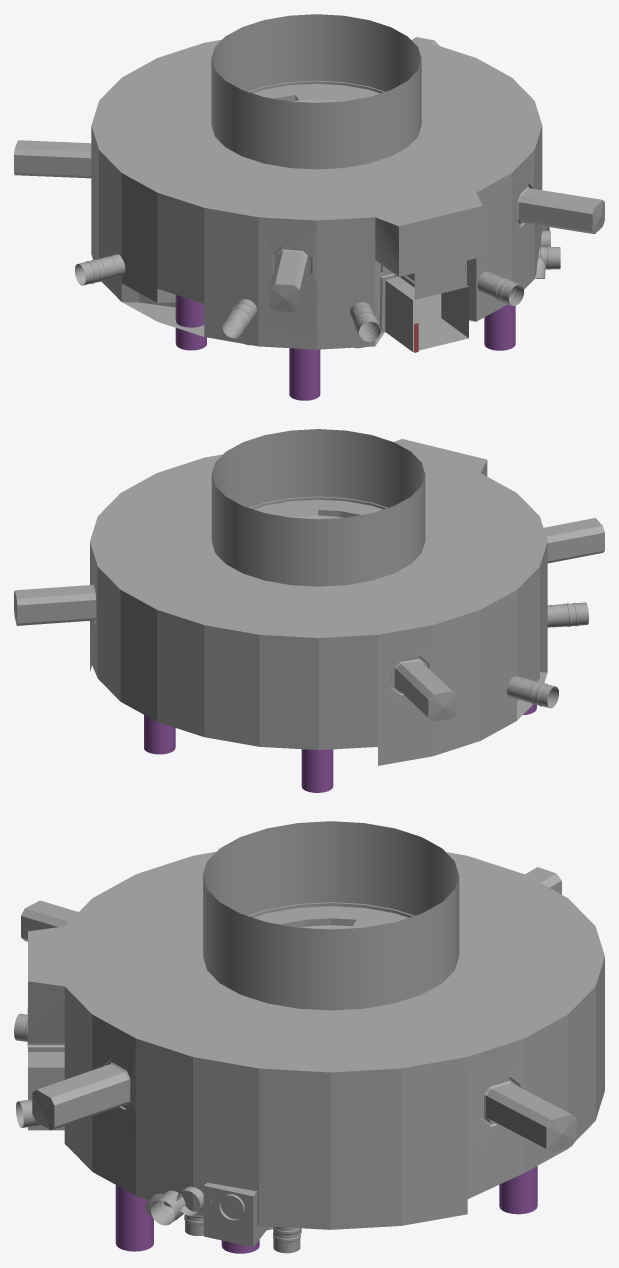
The model's file is BossRoomAlphaTesting.fbx.
3 views of the same model, one above another, from view 1: azimuth 30°, elevation 25°; view 2: azimuth 150°, elevation 25°; view 3: azimuth 270°, elevation 25° (orthographic). The views are drawn at different scales.
Parts seen in each view (by area): view 1: polySurface775, polySurface776, polySurface1569, polySurface1568, polySurface1418, polySurface1419, pCylinder3, pCylinder4, pCylinder6, polySurface1555, polySurface1552, polySurface1562 (+1 smaller); view 2: polySurface775, polySurface776, polySurface1419, polySurface1567, polySurface1569, pCylinder8, polySurface1555, pCylinder7, polySurface1562; view 3: polySurface775, polySurface776, polySurface1567, polySurface1568, pCube94, pCylinder6, polySurface1418, pCylinder7, polySurface1569, polySurface1560, polySurface1559.
Boxes of the visible parts, left/top/right/bottom form: polySurface775: left=91, top=39, right=542, bottom=351; polySurface776: left=211, top=14, right=421, bottom=169; polySurface1569: left=258, top=217, right=316, bottom=330; polySurface1568: left=512, top=150, right=604, bottom=281; polySurface1418: left=375, top=260, right=468, bottom=351; polySurface1419: left=14, top=140, right=91, bottom=178; pCylinder3: left=289, top=348, right=320, bottom=400; pCylinder4: left=175, top=295, right=206, bottom=350; pCylinder6: left=484, top=304, right=515, bottom=350; polySurface1555: left=74, top=254, right=125, bottom=285; polySurface1552: left=477, top=271, right=523, bottom=305; polySurface1562: left=222, top=299, right=257, bottom=345; polySurface775: left=90, top=439, right=547, bottom=765; polySurface776: left=211, top=429, right=425, bottom=586; polySurface1419: left=378, top=625, right=457, bottom=746; polySurface1567: left=14, top=542, right=97, bottom=677; polySurface1569: left=543, top=518, right=604, bottom=563; pCylinder8: left=301, top=749, right=333, bottom=792; polySurface1555: left=507, top=676, right=558, bottom=708; pCylinder7: left=144, top=715, right=175, bottom=754; polySurface1562: left=547, top=602, right=588, bottom=627; polySurface775: left=28, top=851, right=604, bottom=1229; polySurface776: left=203, top=821, right=459, bottom=1010; polySurface1567: left=467, top=1038, right=576, bottom=1190; polySurface1568: left=32, top=1014, right=135, bottom=1172; pCube94: left=203, top=1182, right=268, bottom=1246; pCylinder6: left=115, top=1185, right=153, bottom=1251; polySurface1418: left=27, top=1008, right=64, bottom=1130; pCylinder7: left=499, top=1166, right=537, bottom=1214; polySurface1569: left=21, top=900, right=78, bottom=941; polySurface1560: left=150, top=1190, right=203, bottom=1235; polySurface1559: left=210, top=1199, right=300, bottom=1253.
Size of the model in its own units: 2781 by 1503 by 2621.
